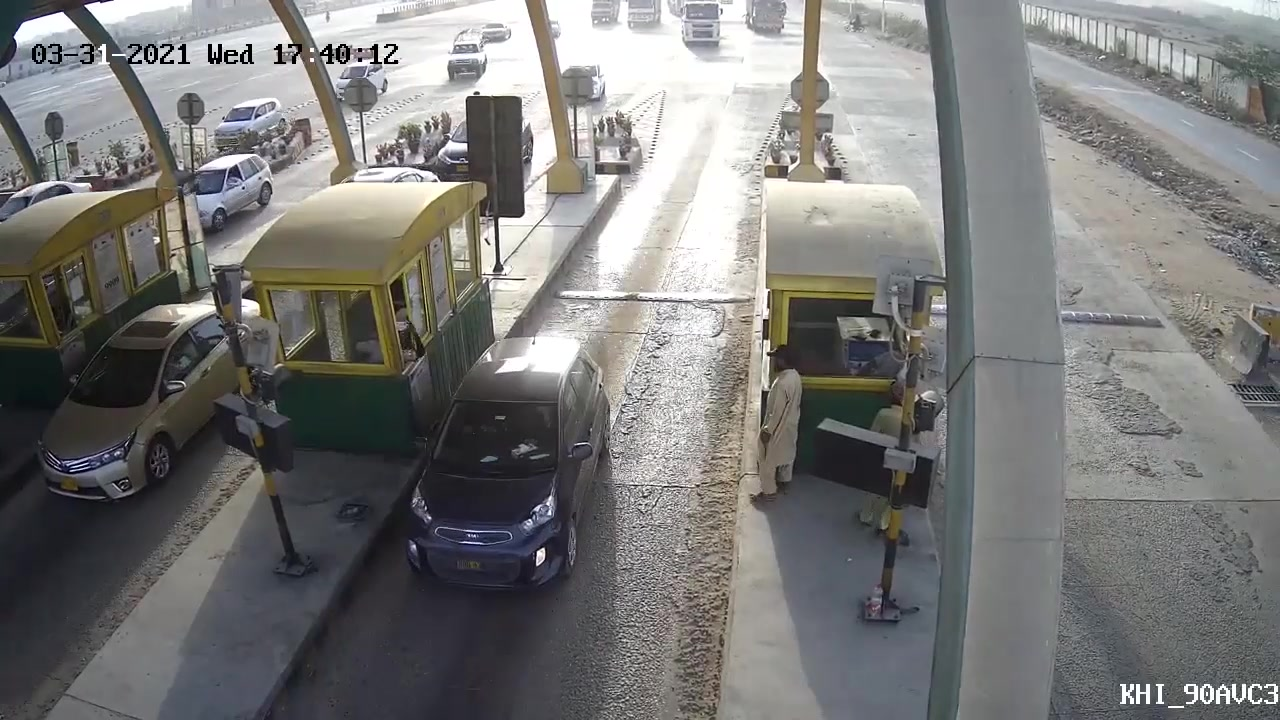F1: (385, 330, 629, 595)
